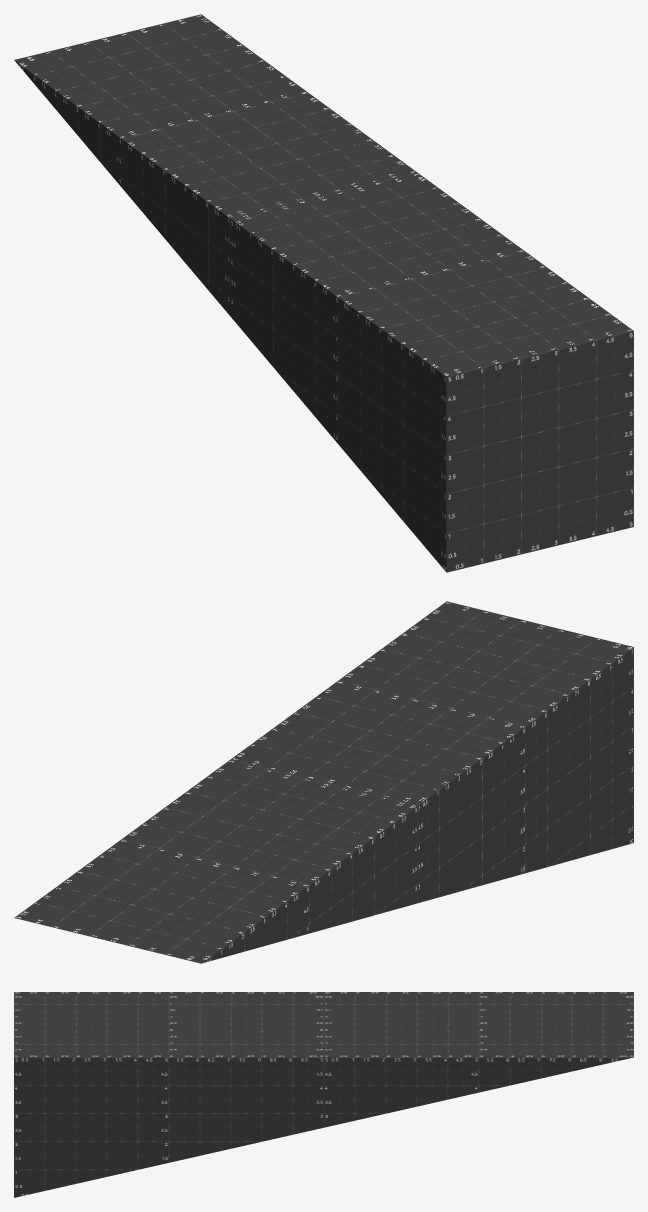
Rendered from WedgeCeiling_20.fbx.
3 renders of one model, top to bottom at view 1: azimuth 30°, elevation 25°; view 2: azimuth 150°, elevation 25°; view 3: azimuth 270°, elevation 25°, orthographic. The views are drawn at different scales.
Visible parts, largest first — view 1: WedgeCeiling_20; view 2: WedgeCeiling_20; view 3: WedgeCeiling_20.
Part boxes in pixels (<box>): WedgeCeiling_20: <box>14,14,633,572</box>; WedgeCeiling_20: <box>14,601,633,963</box>; WedgeCeiling_20: <box>14,992,633,1197</box>.
Size of the model in its own units: 5 by 5 by 20.
